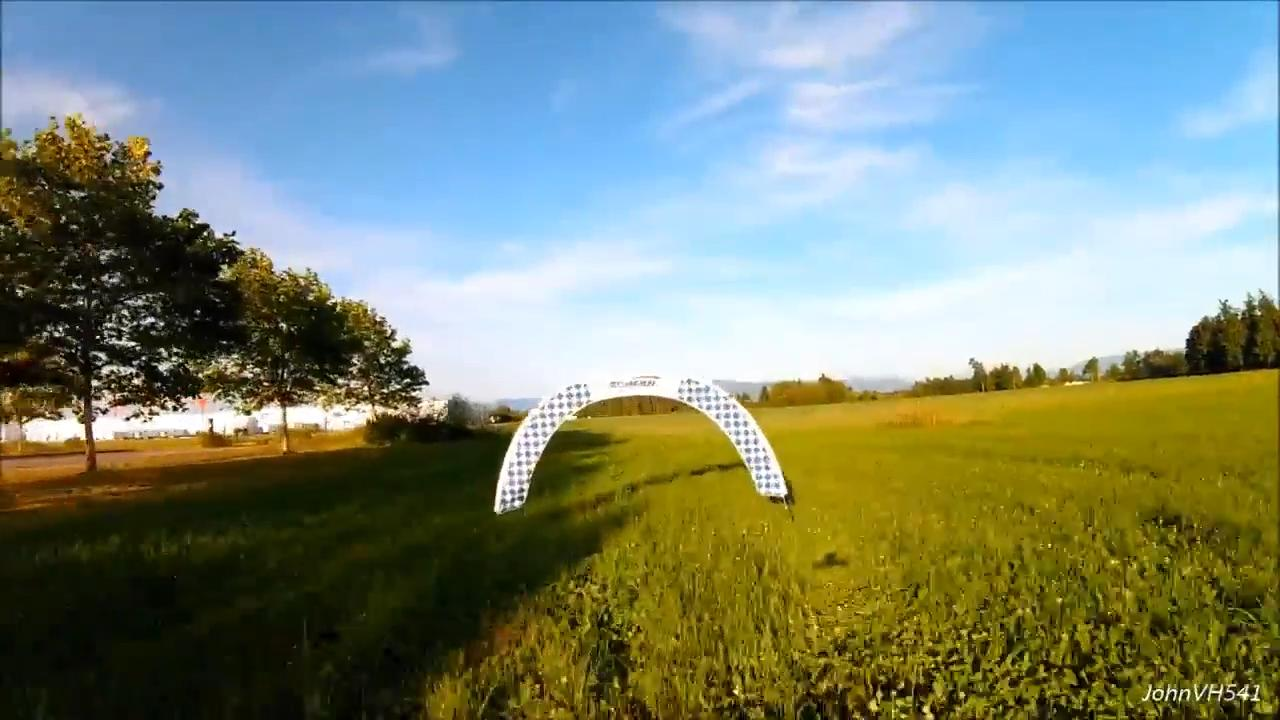gate: (496, 370, 794, 513)
